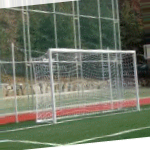goals: (33, 45, 142, 128)
